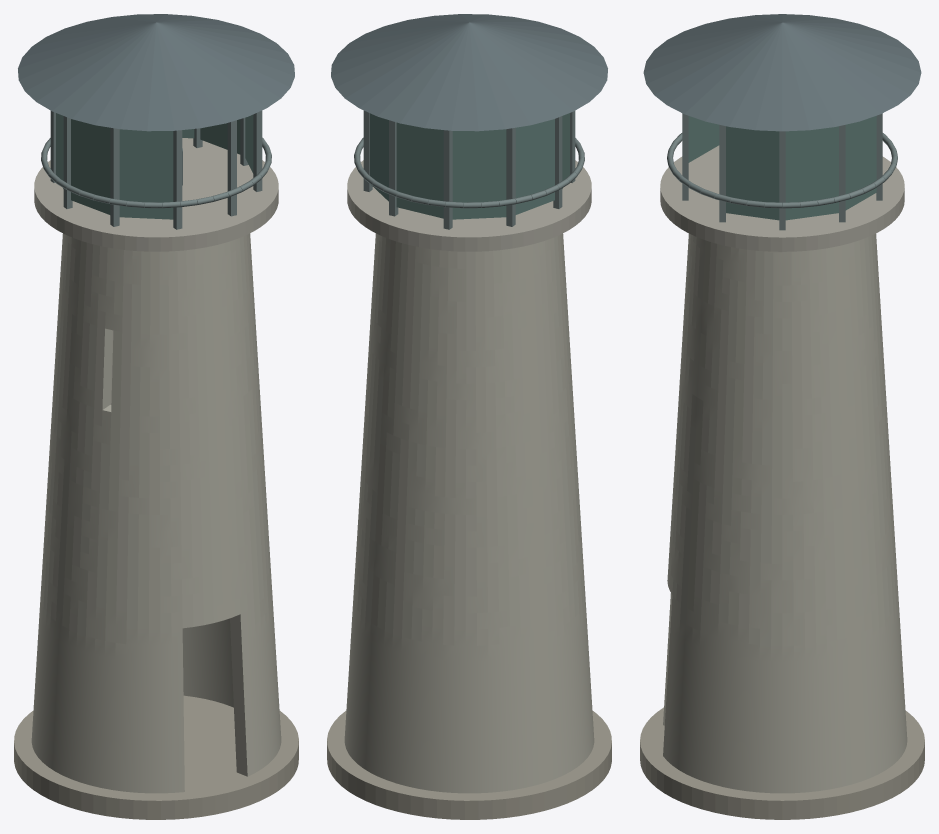
File: 123_lighthouse.glb
The picture shows the model from 3 angles, left to right: view 1: azimuth 30°, elevation 25°; view 2: azimuth 150°, elevation 25°; view 3: azimuth 270°, elevation 25°; orthographic projection.
Visible parts, largest first — view 1: Tapered_lime_wall, BLD-123_roof_covering, Stone_plinth, Lantern_floor, BLD-123_lantern_glass, BLD-123_lantern_frame; view 2: Tapered_lime_wall, BLD-123_roof_covering, BLD-123_lantern_glass, Stone_plinth, Lantern_floor, BLD-123_lantern_frame; view 3: Tapered_lime_wall, BLD-123_roof_covering, BLD-123_lantern_glass, Lantern_floor, Stone_plinth, BLD-123_lantern_frame.
Boxes of the visible parts, x1,y1,x2,y2 form: Tapered_lime_wall: (31, 233, 281, 793); BLD-123_roof_covering: (18, 14, 294, 131); Stone_plinth: (14, 695, 298, 819); Lantern_floor: (34, 138, 278, 251); BLD-123_lantern_glass: (56, 113, 253, 219); BLD-123_lantern_frame: (41, 110, 271, 229); Tapered_lime_wall: (344, 233, 594, 793); BLD-123_roof_covering: (331, 14, 607, 131); BLD-123_lantern_glass: (370, 113, 569, 219); Stone_plinth: (327, 710, 611, 819); Lantern_floor: (347, 160, 591, 251); BLD-123_lantern_frame: (354, 110, 584, 229); Tapered_lime_wall: (663, 233, 907, 793); BLD-123_roof_covering: (643, 14, 921, 131); BLD-123_lantern_glass: (688, 116, 876, 220); Lantern_floor: (660, 145, 904, 251); Stone_plinth: (640, 707, 924, 819); BLD-123_lantern_frame: (667, 113, 897, 230).
Bounding box in the file's own units: 3.24 × 9.25 × 3.24.
